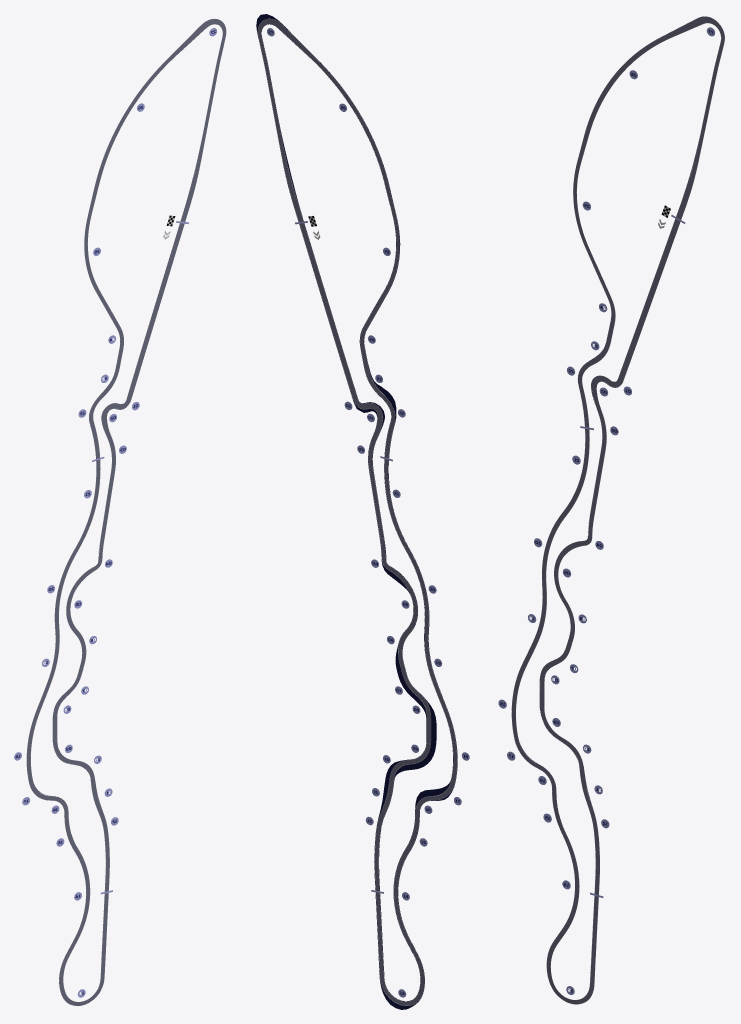
File: jeddah.glb
3 renders of one model, left to right at view 1: azimuth 30°, elevation 25°; view 2: azimuth 150°, elevation 25°; view 3: azimuth 330°, elevation 25°, orthographic. The views are drawn at different scales.
Visible parts, largest first — view 1: tracklimit, whiteline; view 2: tracklimit, runoff, whiteline; view 3: tracklimit, whiteline.
Boxes of the visible parts, <box> form: tracklimit: <box>26,18,226,1005</box>; whiteline: <box>26,18,226,1006</box>; tracklimit: <box>258,19,456,1005</box>; runoff: <box>256,14,457,1009</box>; whiteline: <box>257,18,457,1005</box>; tracklimit: <box>511,16,724,1004</box>; whiteline: <box>511,16,724,1004</box>.
Size of the model in its own units: 644 by 2774 by 3.49.
